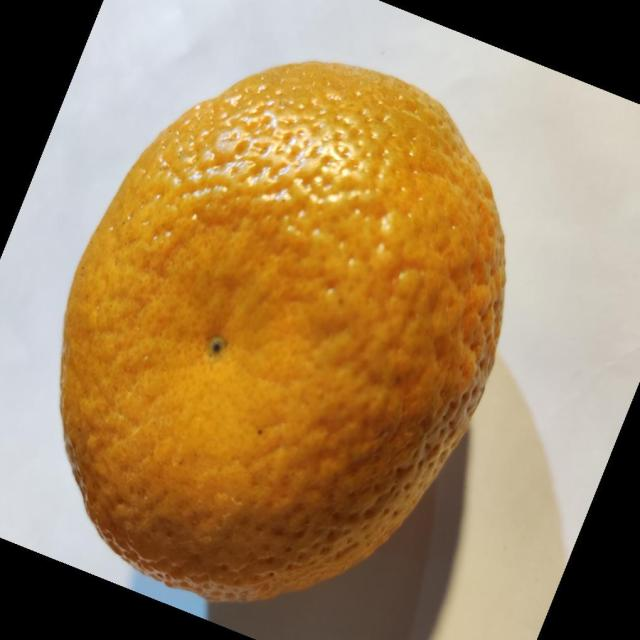fresh orange: (58, 59, 507, 603)
